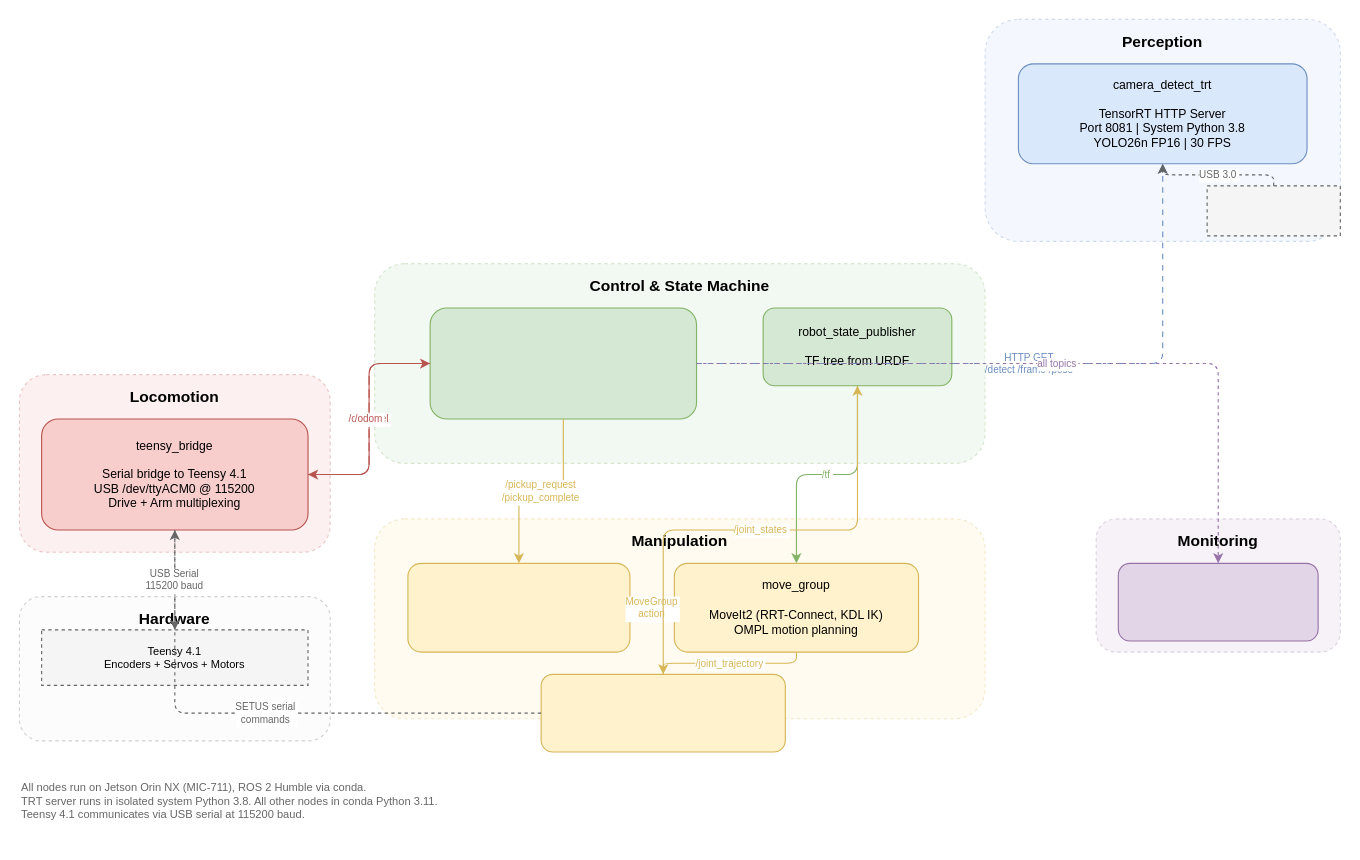
Some shapes in this 1360 by 860 pixel diagram are drawn without their labels. Here are the shapes that lost their labels. From the top down, the box of each, then its label:
(1206, 185, 1340, 236): OAK-D Lite USB 3.0 | 640x480
(429, 307, 697, 419): waste_tracker Central FSM: SCAN → APPROACH → PICK → DEPOSIT Conda Python 3.11
(407, 562, 630, 652): pick_and_place Arm motion sequence MoveGroup action client
(1117, 562, 1318, 641): foxglove_bridge WebSocket ws://:8765 Visualization + Dashboard
(540, 673, 785, 752): controller_manager ros2_control ServoHardwareInterface plugin
